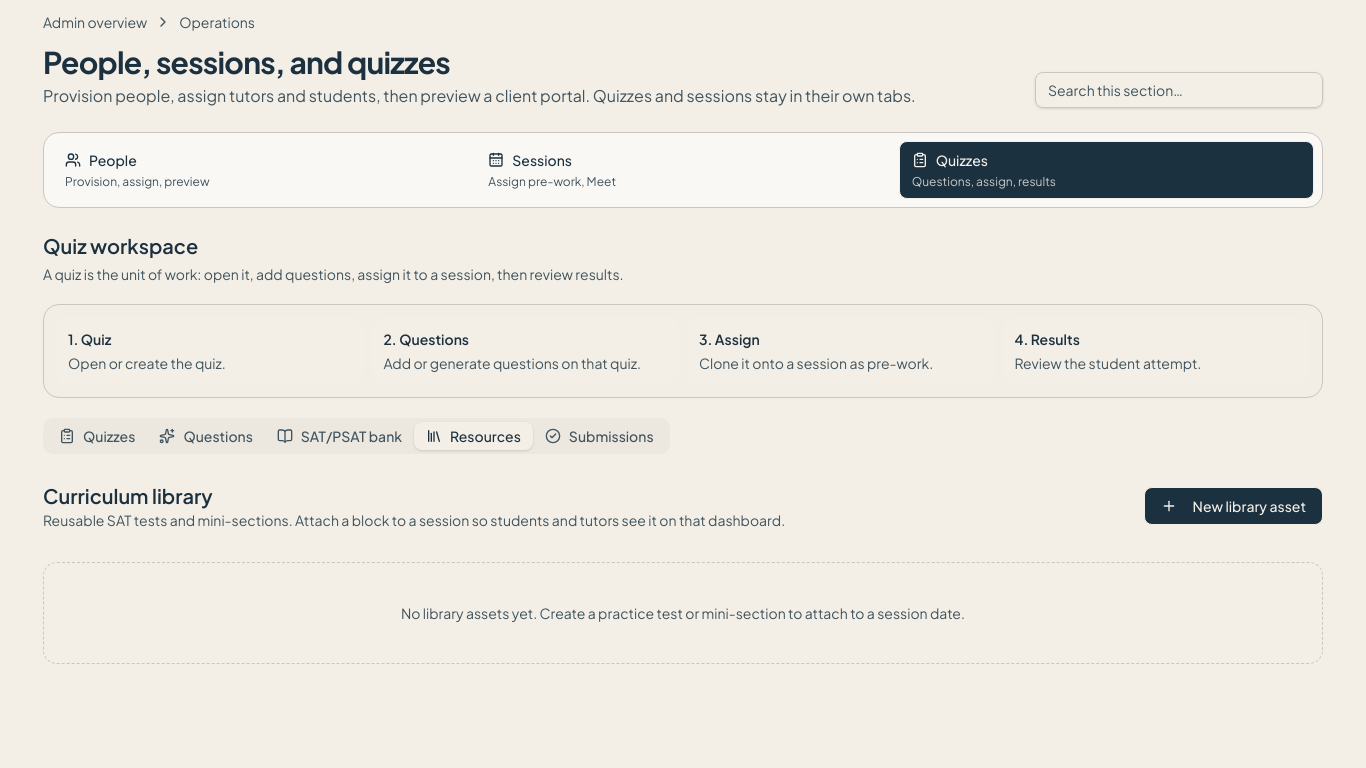
Test: curriculum bank IA › library forms do not offer Google Drive fields or CTAs
Click the button "New library asset": (1233, 506) top-left (1144, 487), bottom-right (1323, 525)
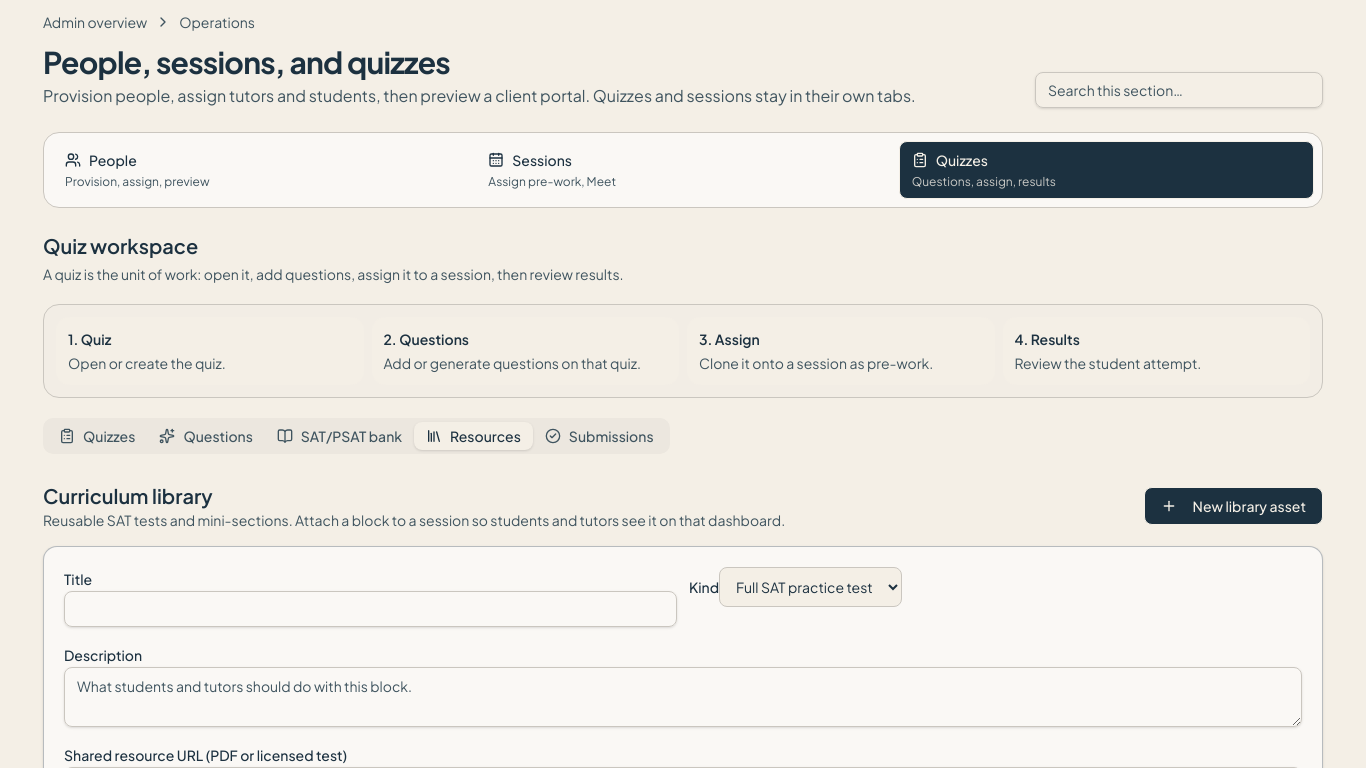
Expected: the text "Shared resource URL (PDF or licensed test)" is shown, top-left (64, 746), bottom-right (347, 764)
